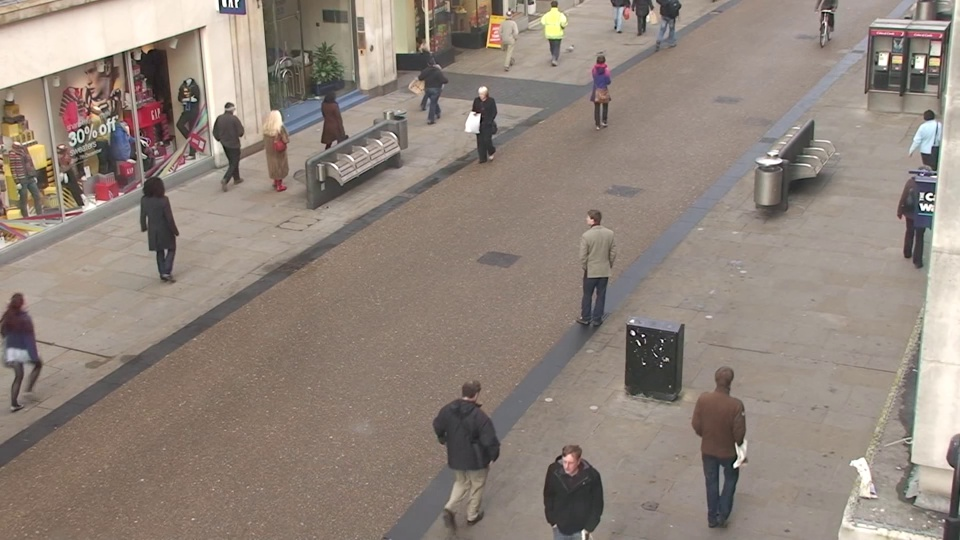pedestrian: (693, 357, 749, 516), (447, 368, 500, 528), (541, 436, 596, 540), (133, 173, 179, 281), (575, 203, 613, 323), (902, 105, 948, 203), (260, 105, 295, 196), (214, 97, 249, 185), (315, 87, 347, 173), (470, 83, 500, 170), (418, 54, 446, 132), (588, 52, 614, 130), (412, 39, 439, 113), (496, 7, 519, 73)
